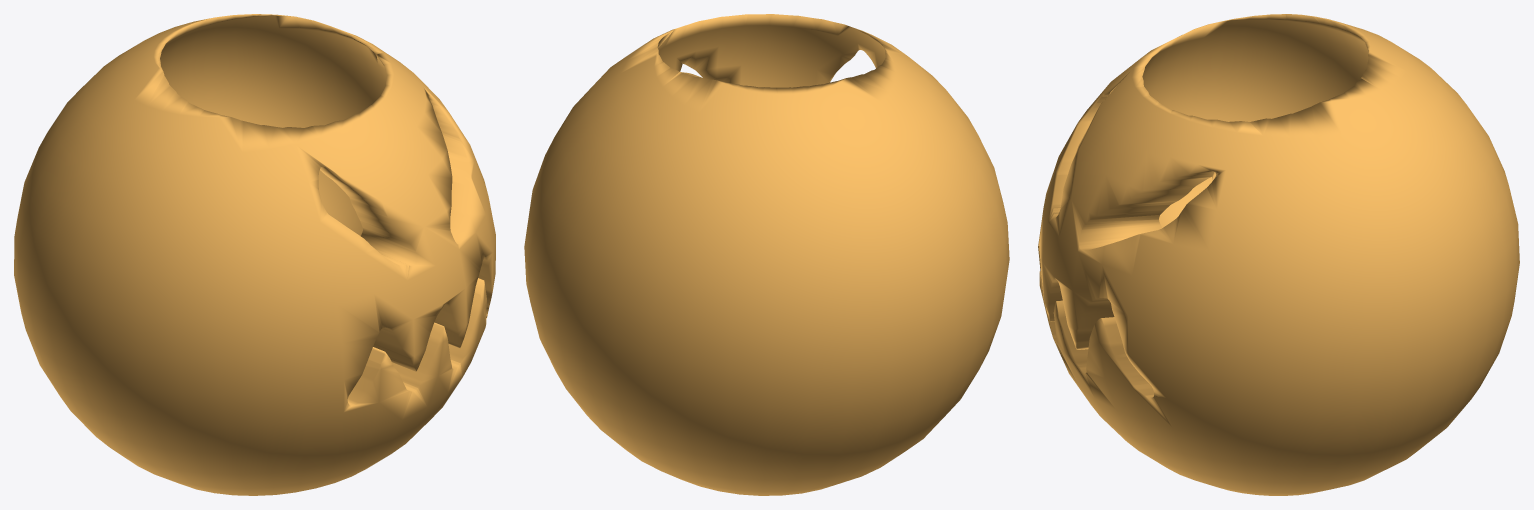
3 renders of one model, left to right at view 1: azimuth 30°, elevation 25°; view 2: azimuth 150°, elevation 25°; view 3: azimuth 270°, elevation 25°, orthographic.
Visible parts, largest first — view 1: obj_0.019_obj_0.020; view 2: obj_0.019_obj_0.020; view 3: obj_0.019_obj_0.020.
Part boxes in pixels (box(x1,y1,x2,y2)): obj_0.019_obj_0.020: box(14, 14, 495, 495); obj_0.019_obj_0.020: box(524, 14, 1009, 495); obj_0.019_obj_0.020: box(1038, 14, 1519, 495).
Bounding box in the file's own units: 0.0524 × 0.0506 × 0.0525.
